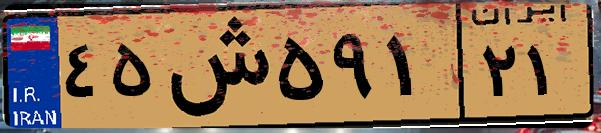1: (385, 28, 445, 110), (525, 38, 570, 115)
2: (475, 38, 525, 113)
4: (57, 26, 110, 100)
5: (270, 28, 330, 110), (110, 28, 158, 98)
9: (330, 28, 385, 110)
ش: (158, 12, 270, 120)
